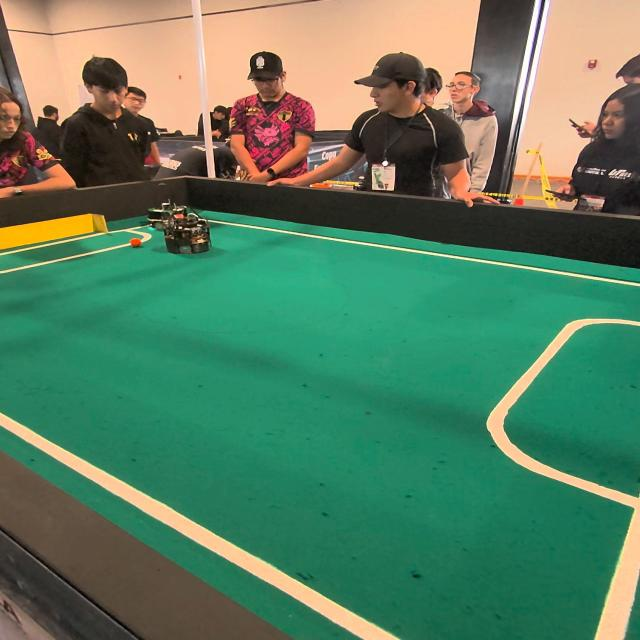Robot: (162, 205, 214, 258)
pelota: (129, 237, 144, 248)
